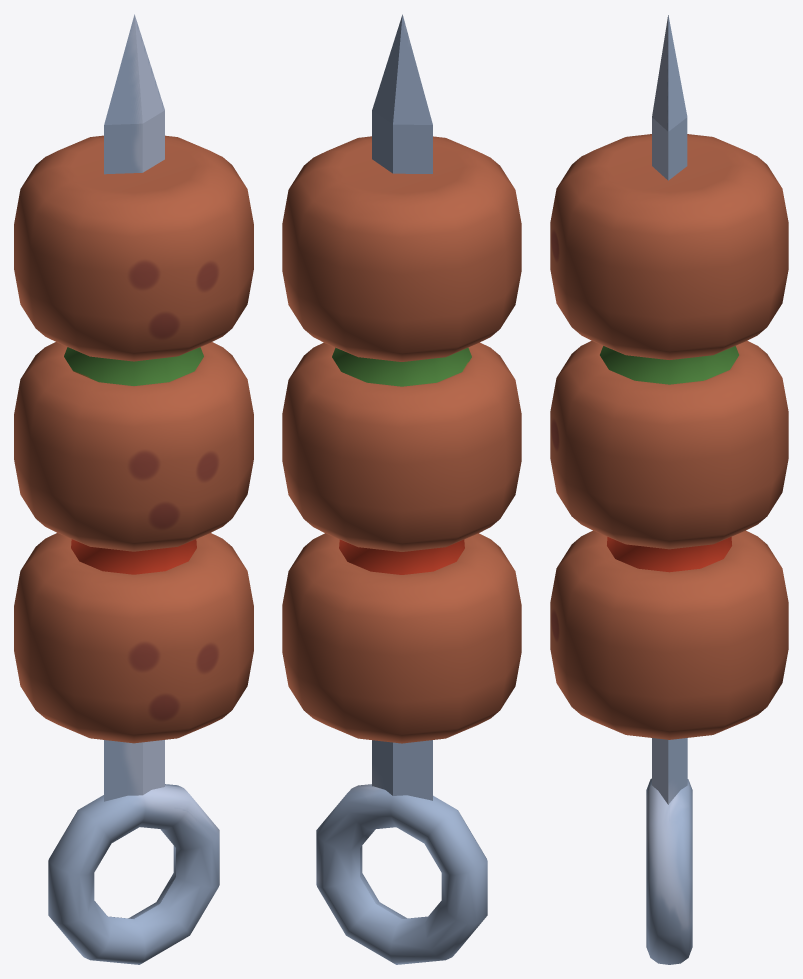
The model's file is skewer.fbx.
The picture shows the model from 3 angles, left to right: view 1: azimuth 30°, elevation 25°; view 2: azimuth 150°, elevation 25°; view 3: azimuth 270°, elevation 25°; orthographic projection.
Parts seen in each view (by area): view 1: skewer; view 2: skewer; view 3: skewer.
Part boxes in pixels (<box>): skewer: <box>14,14,253,964</box>; skewer: <box>282,14,521,964</box>; skewer: <box>550,15,788,964</box>.
Bounding box in the file's own units: 0.2525 × 1.1 × 0.2525.
Materials: 1 (1 with a texture image).
